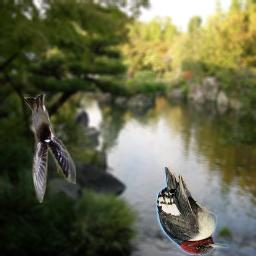Swallow: (24, 94, 76, 203)
Woodpecker: (156, 167, 229, 255)
